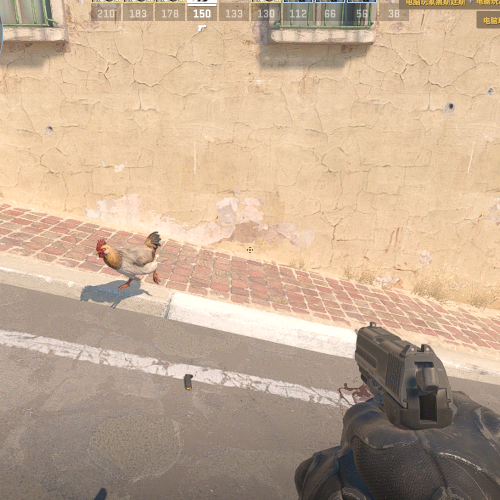chicken: (96, 232, 163, 292)
